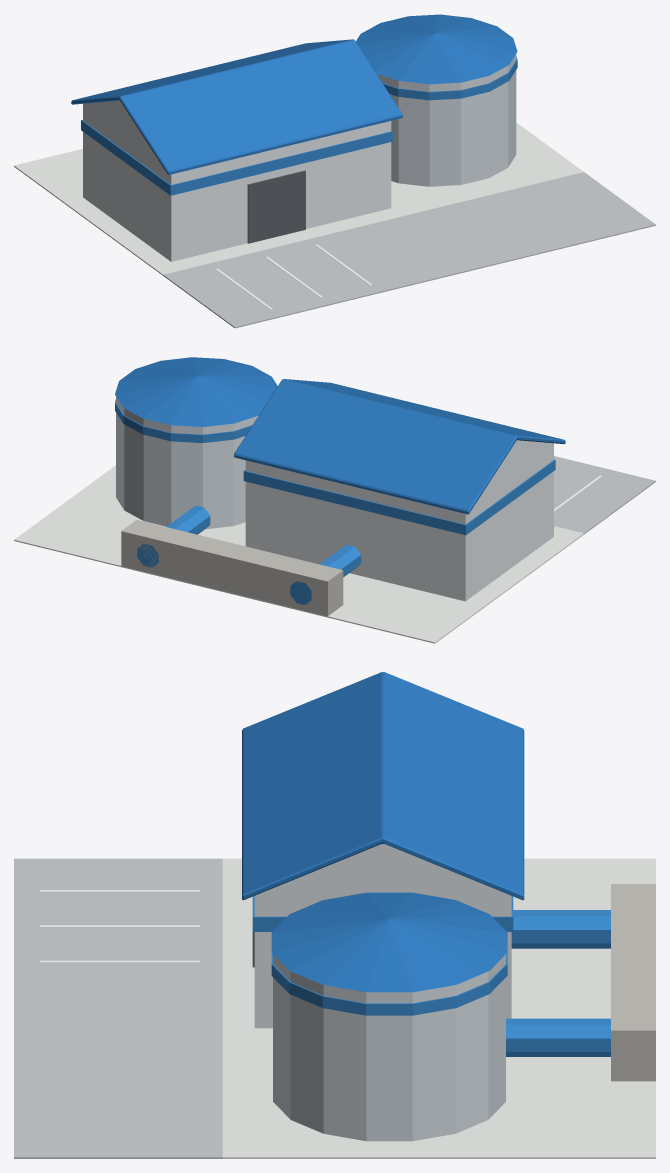
Rendered from waterpump.glb.
3 views of the same model, one above another, from view 1: azimuth 30°, elevation 25°; view 2: azimuth 150°, elevation 25°; view 3: azimuth 270°, elevation 25° (orthographic). The views are drawn at different scales.
Visible parts, largest first — view 1: waterpump; view 2: waterpump; view 3: waterpump.
Boxes of the visible parts, x1,y1,x2,y2 form: waterpump: (14, 14, 655, 328); waterpump: (14, 357, 655, 643); waterpump: (14, 672, 655, 1158).
Bounding box in the file's own units: 22 × 6.78 × 20.
